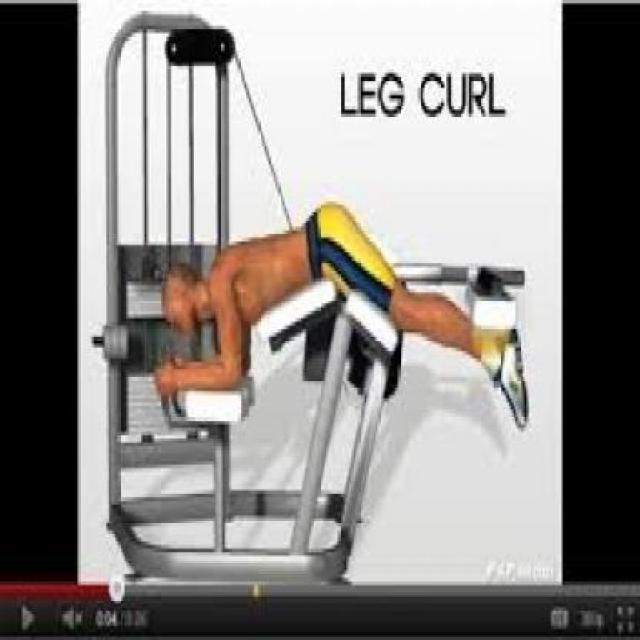reg curl machine: (81, 12, 532, 586)
